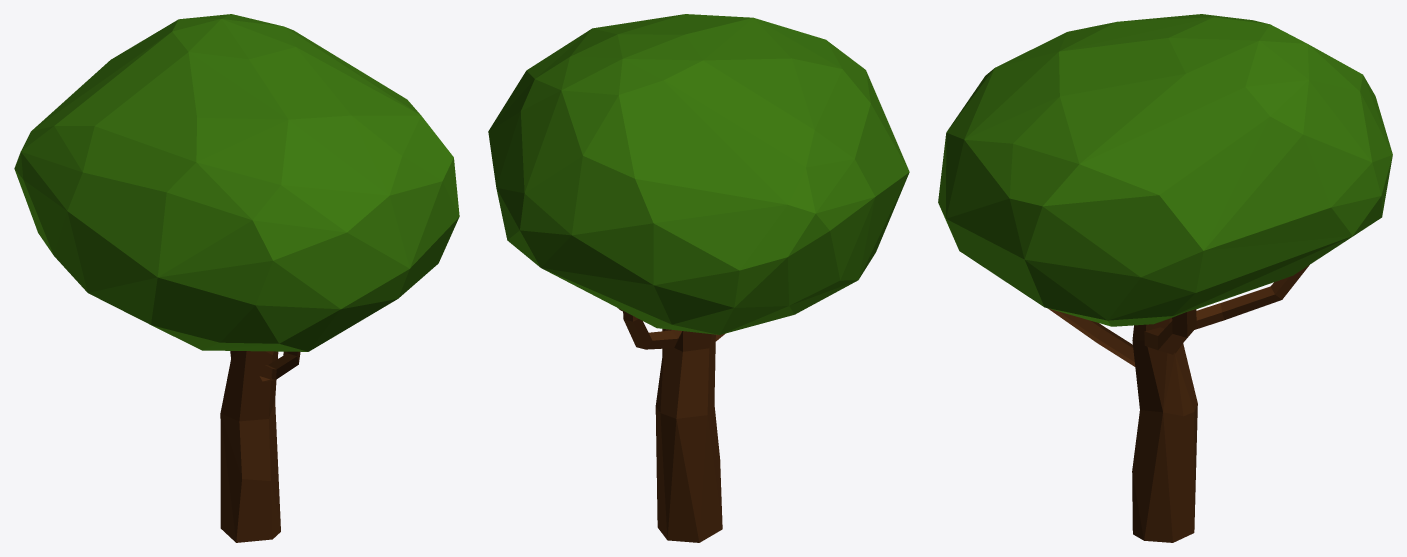
Rendered from tree.glb.
The picture shows the model from 3 angles, left to right: view 1: azimuth 30°, elevation 25°; view 2: azimuth 150°, elevation 25°; view 3: azimuth 270°, elevation 25°; orthographic projection. The views are drawn at different scales.
Parts seen in each view (by area): view 1: Sphere, Cylinder, Cylinder.004; view 2: Sphere, Cylinder, Cylinder.003; view 3: Sphere, Cylinder, Cylinder.003, Cylinder.001, Cylinder.004.
Boxes of the visible parts, box(x1,y1,x2,y2) form: Sphere: box(14, 14, 459, 351); Cylinder: box(220, 351, 280, 542); Cylinder.004: box(259, 351, 300, 381); Sphere: box(488, 14, 909, 334); Cylinder: box(655, 329, 722, 542); Cylinder.003: box(623, 311, 682, 349); Sphere: box(938, 14, 1392, 326); Cylinder: box(1132, 318, 1197, 542); Cylinder.003: box(1194, 265, 1309, 329); Cylinder.001: box(1144, 309, 1196, 354); Cylinder.004: box(1048, 308, 1135, 366).
Size of the model in its own units: 5.34 by 6.91 by 5.72.
